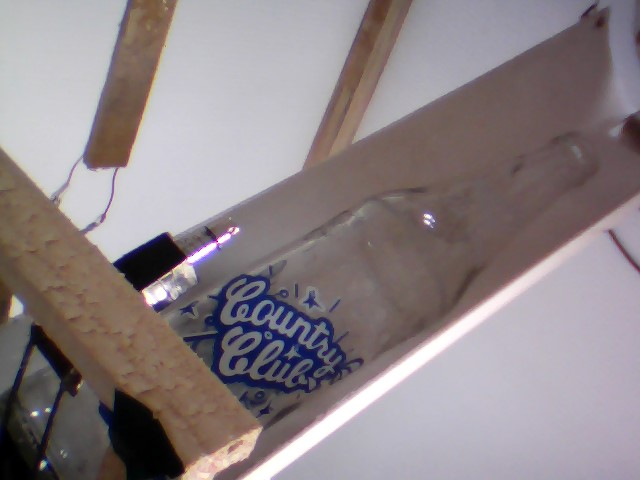vidrio: (175, 125, 608, 432)
